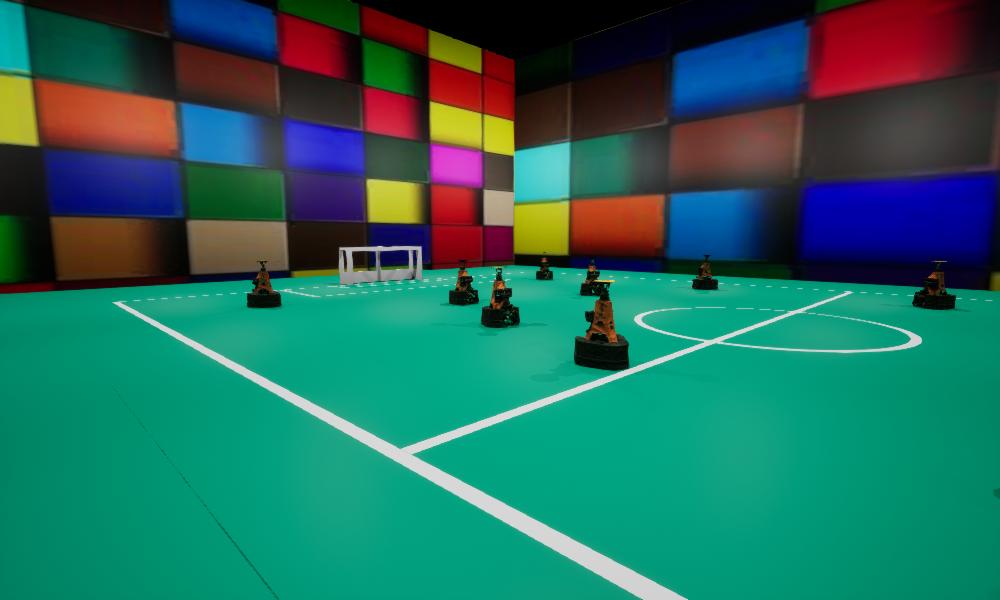o: (574, 280, 628, 370), (481, 267, 519, 327), (912, 261, 955, 309), (247, 260, 281, 307), (449, 260, 478, 305), (580, 257, 603, 295), (692, 255, 717, 289), (536, 252, 552, 279)
